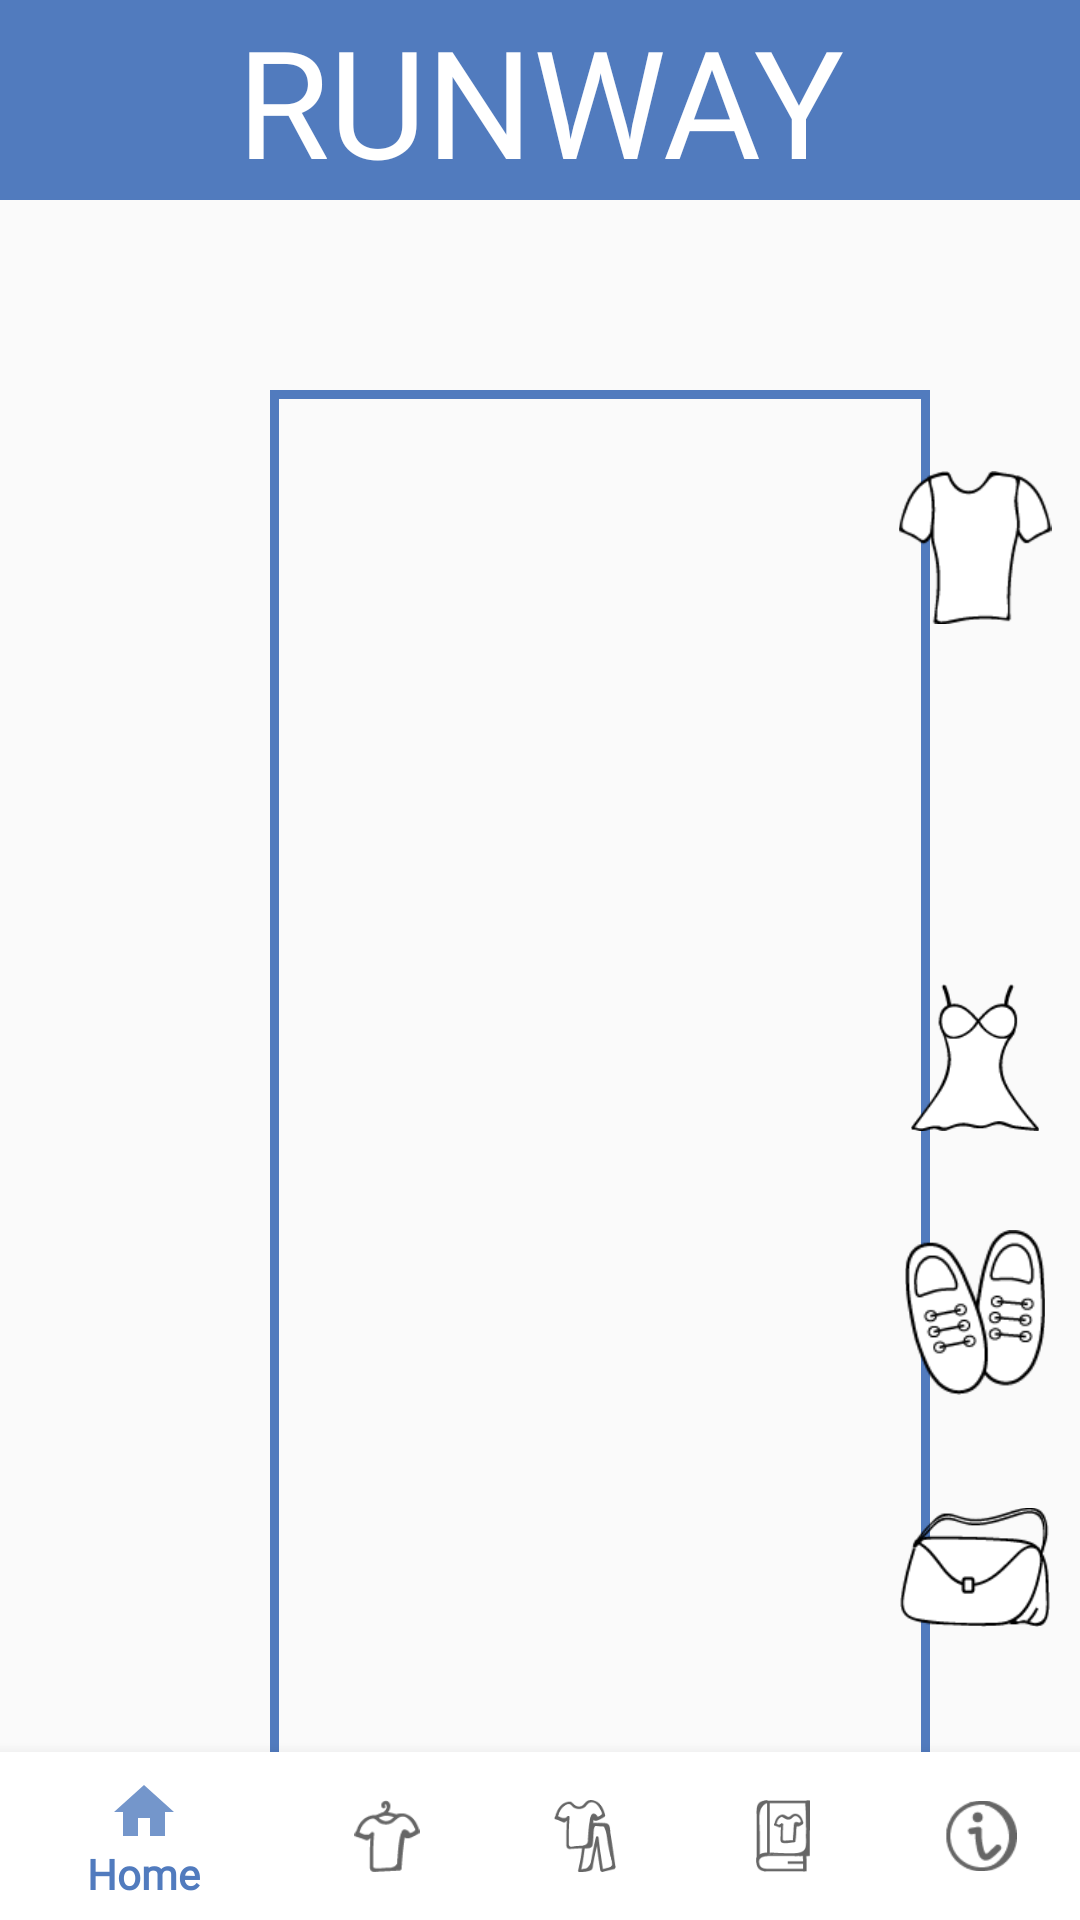

Icon click points for this 1080x1920 phone screenshot, format (x=x, y=y):
accessories: (x=975, y=1567)
dress: (x=975, y=1057)
shirt: (x=975, y=547)
shoes: (x=975, y=1312)
